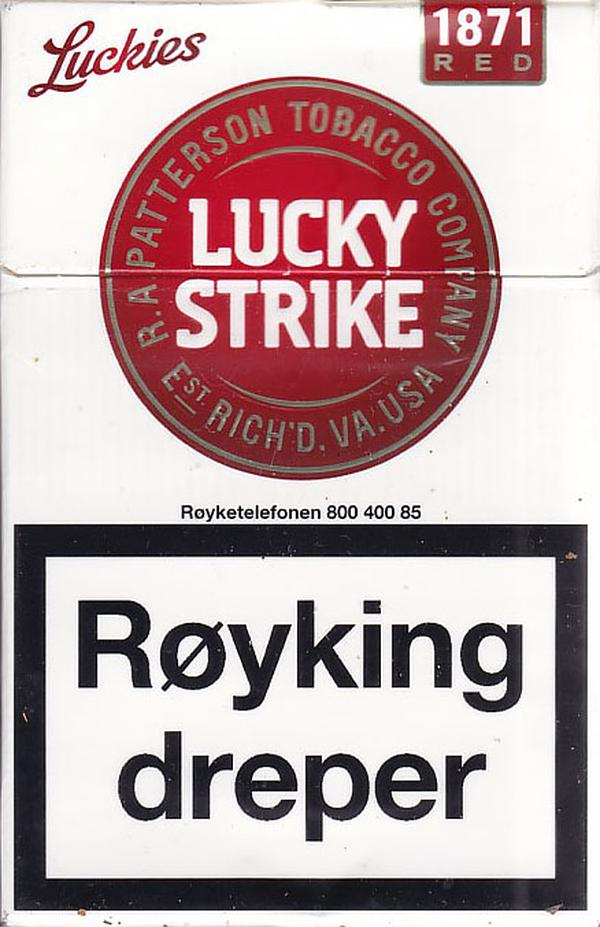lucky_strike_red: (1, 1, 599, 922)
